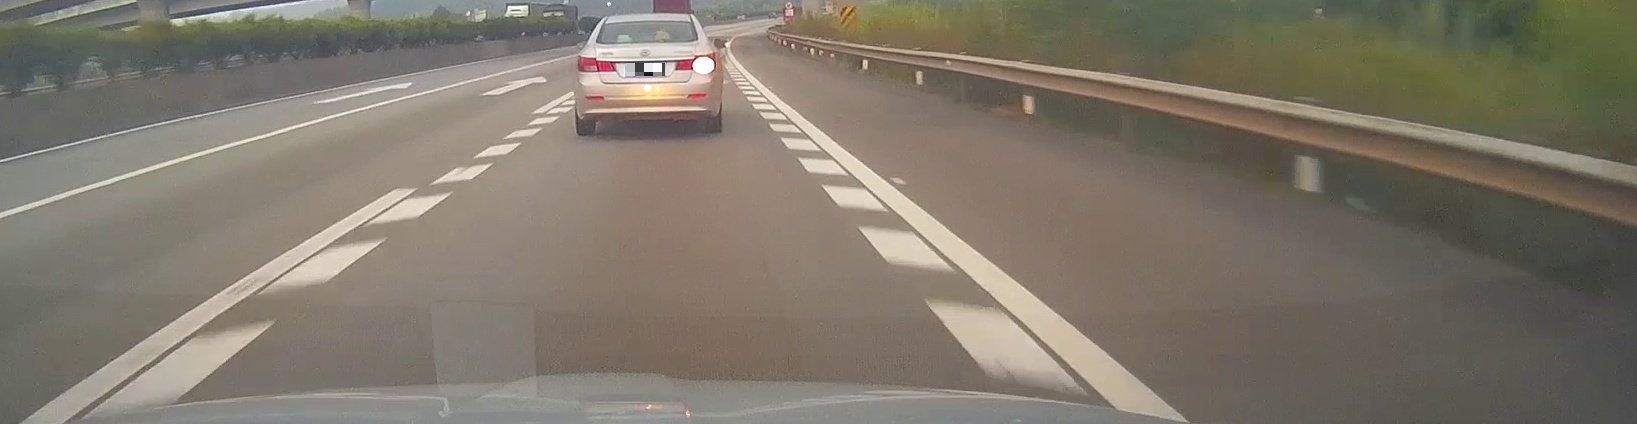L_light: (577, 55, 615, 73)
R_light: (675, 53, 716, 70)
T_light: (638, 21, 657, 25)
day-right: (574, 15, 722, 134)
plate_1: (626, 63, 665, 76)
